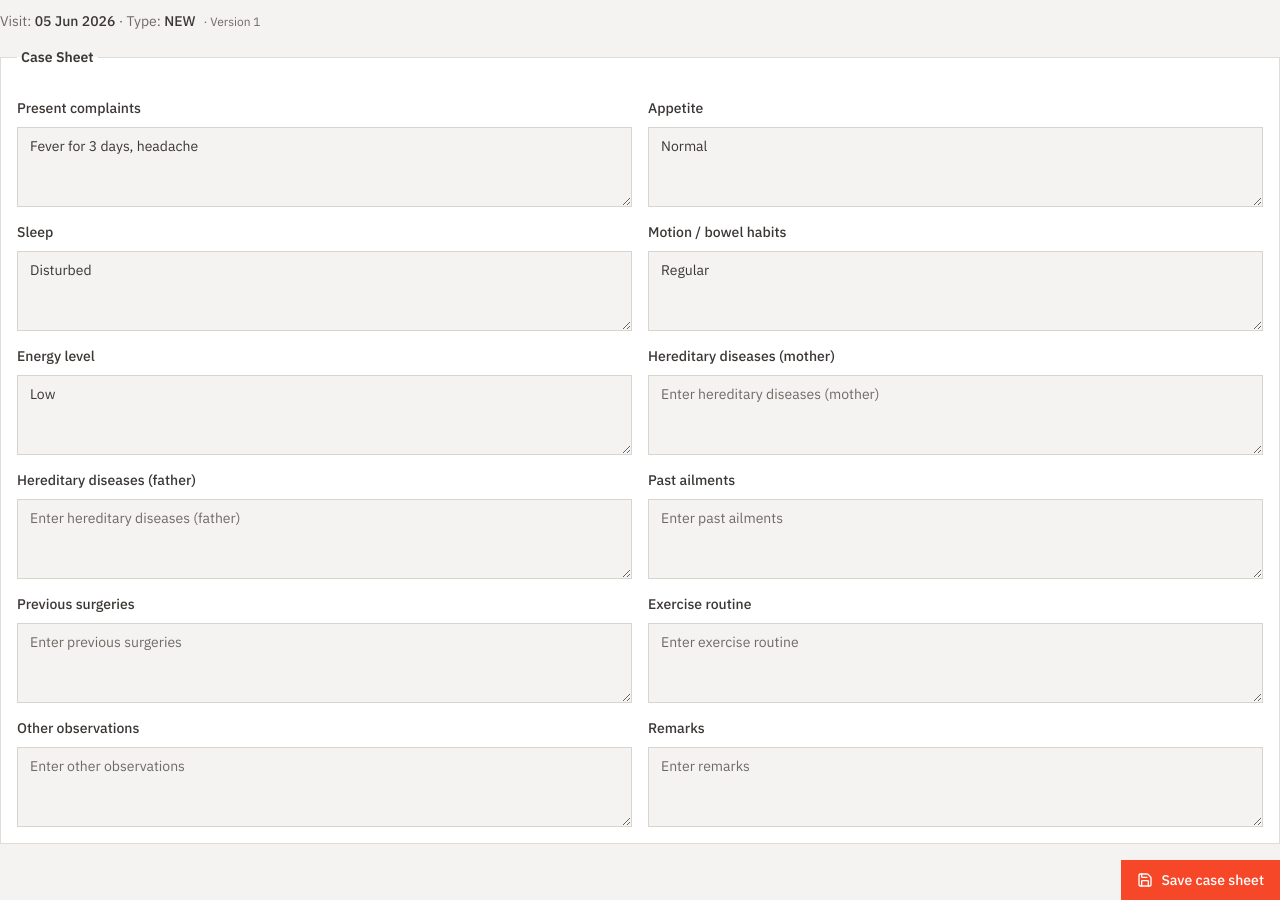
it: CaseSheetTab — form content › shows conflict alert on VERSION_CONFLICT error from save
(page scrolled)
Click the button "Save case sheet".
click(1201, 880)  # box top-left (1121, 860), bottom-right (1279, 899)
(page scrolled)
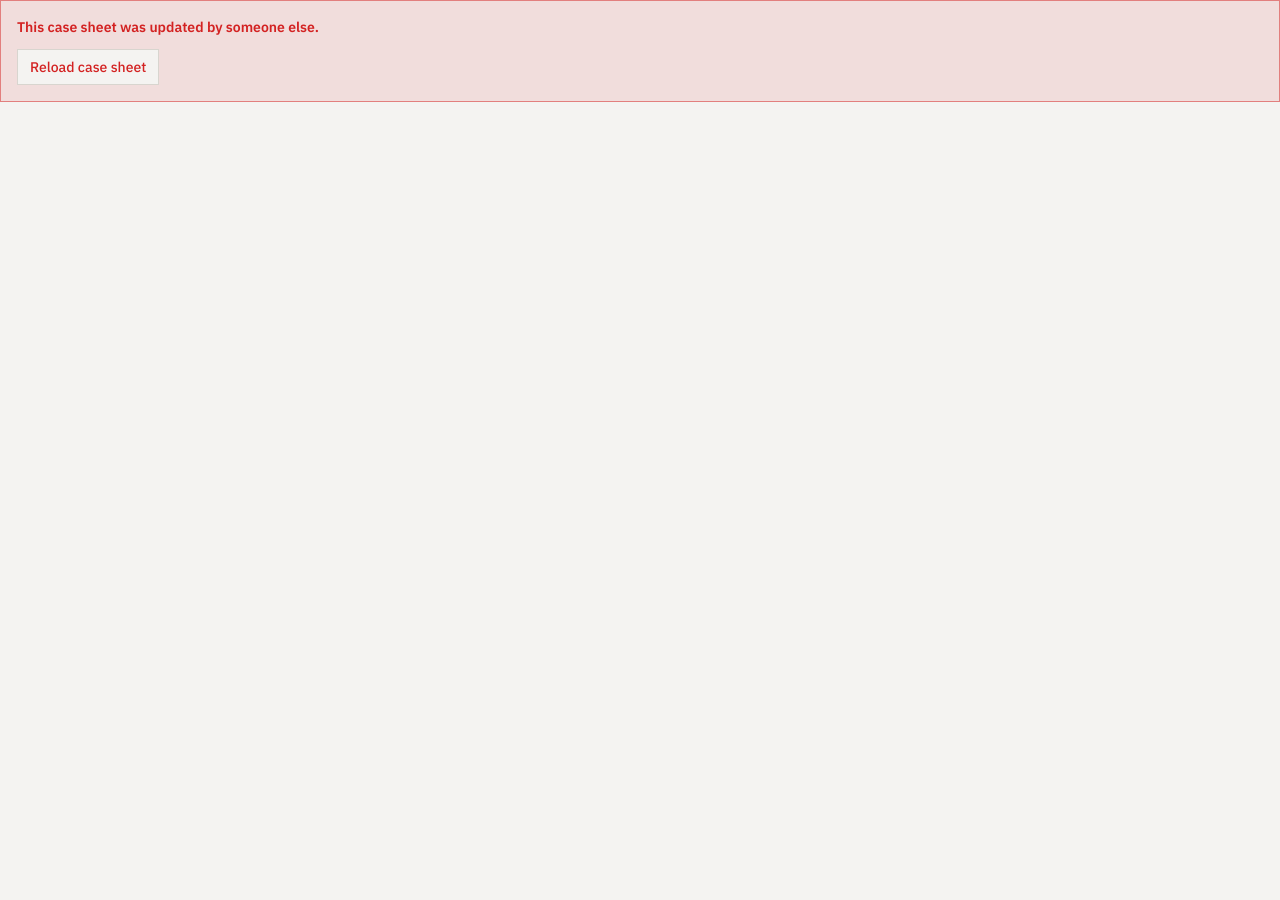
Now the text "This case sheet was updated by someone else." is shown, box top-left (17, 18), bottom-right (319, 36)
Now the button "Reload case sheet" is shown, box top-left (17, 49), bottom-right (159, 85)
